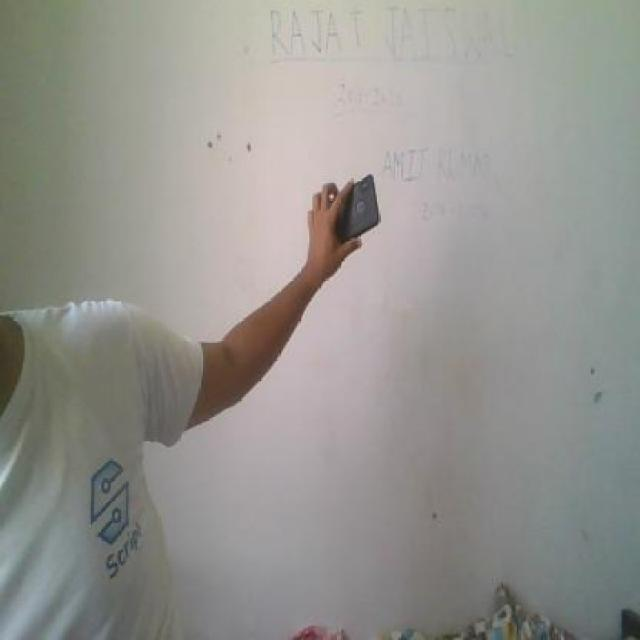Phone: (328, 175, 382, 243)
